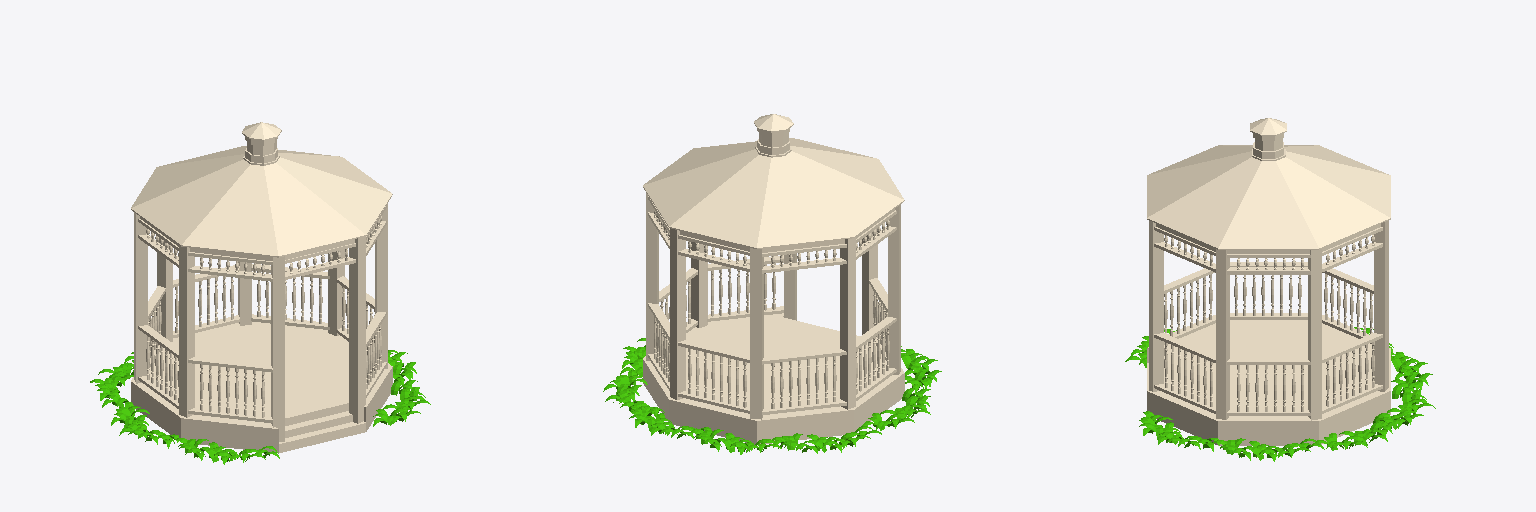
Rendered from gazebo.obj.
3 renders of one model, left to right at view 1: azimuth 30°, elevation 25°; view 2: azimuth 150°, elevation 25°; view 3: azimuth 270°, elevation 25°, orthographic.
Parts seen in each view (by area): view 1: GardenGazebo; view 2: GardenGazebo; view 3: GardenGazebo.
Boxes of the visible parts, <box> form: GardenGazebo: <box>90,122,430,464</box>; GardenGazebo: <box>603,114,941,454</box>; GardenGazebo: <box>1125,118,1435,461</box>.
Bounding box in the file's own units: 1.88 × 1.65 × 1.69.